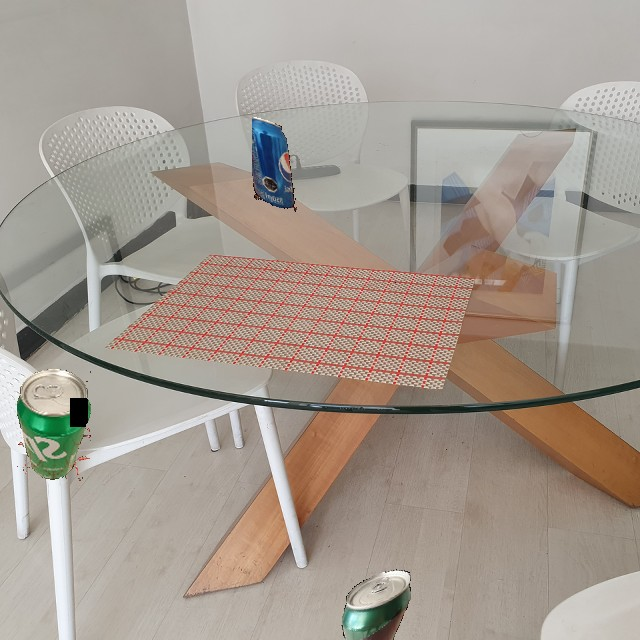pepsi: (252, 117, 297, 212)
schweppes: (336, 562, 414, 640)
sprite: (17, 369, 91, 481)
